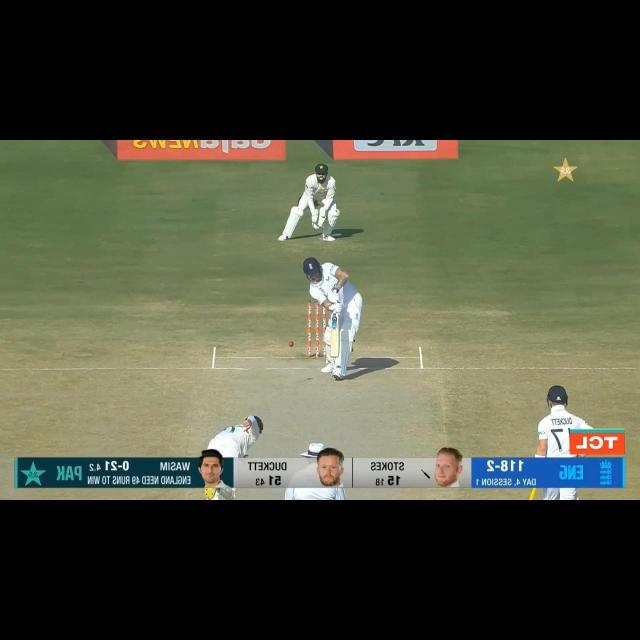bat: (330, 311, 338, 359), (528, 489, 541, 500)
toe: (329, 348, 340, 359)
